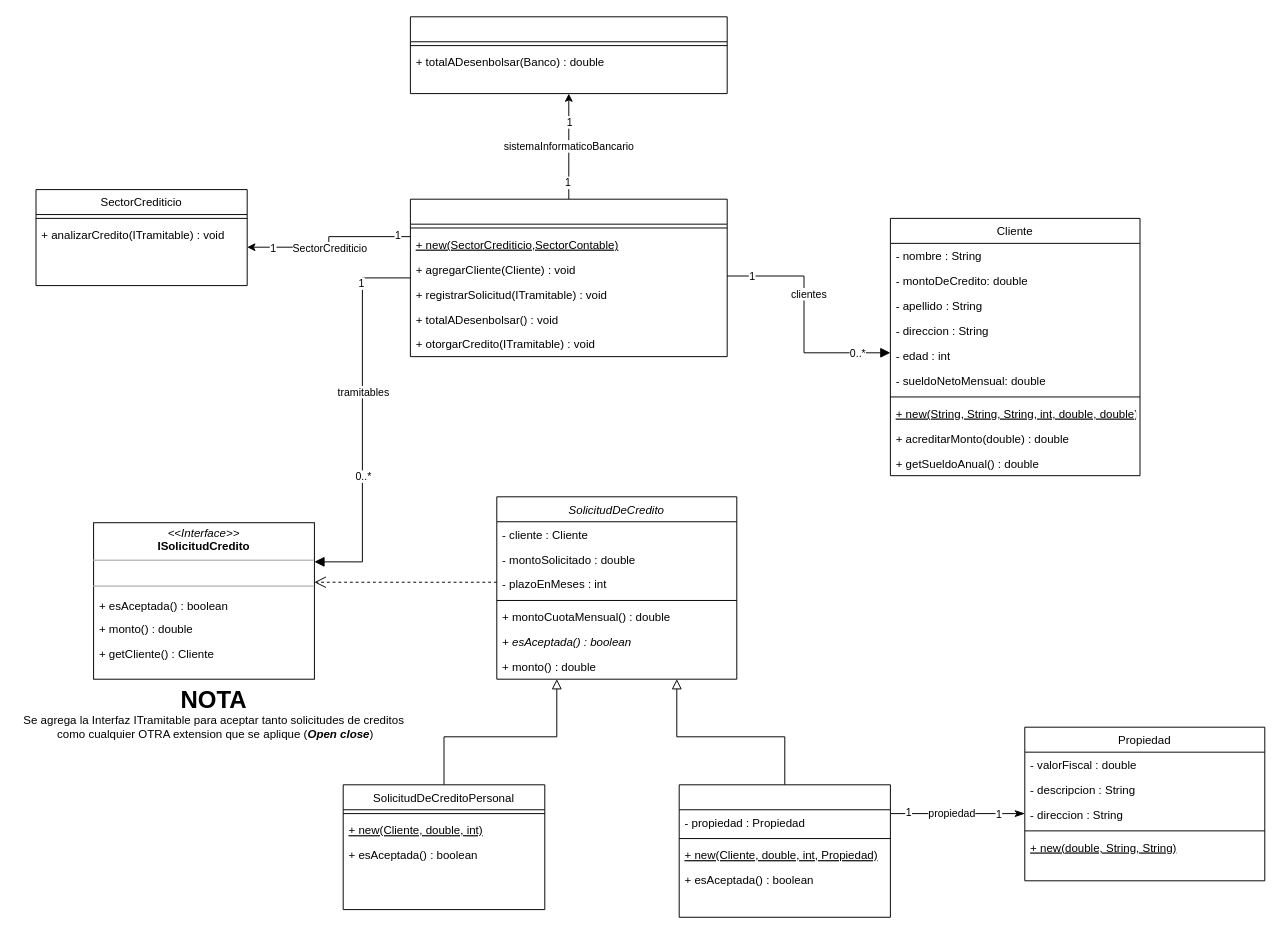
This 1282x934 diagram has some shape labels left out. Here are the shapes that lost their labels. From the top down, the box of each, then its label:
(409, 16, 727, 94): SectorContable
(409, 198, 727, 357): Banco
(678, 784, 890, 917): SolicitudDeCreditoHipotecario
